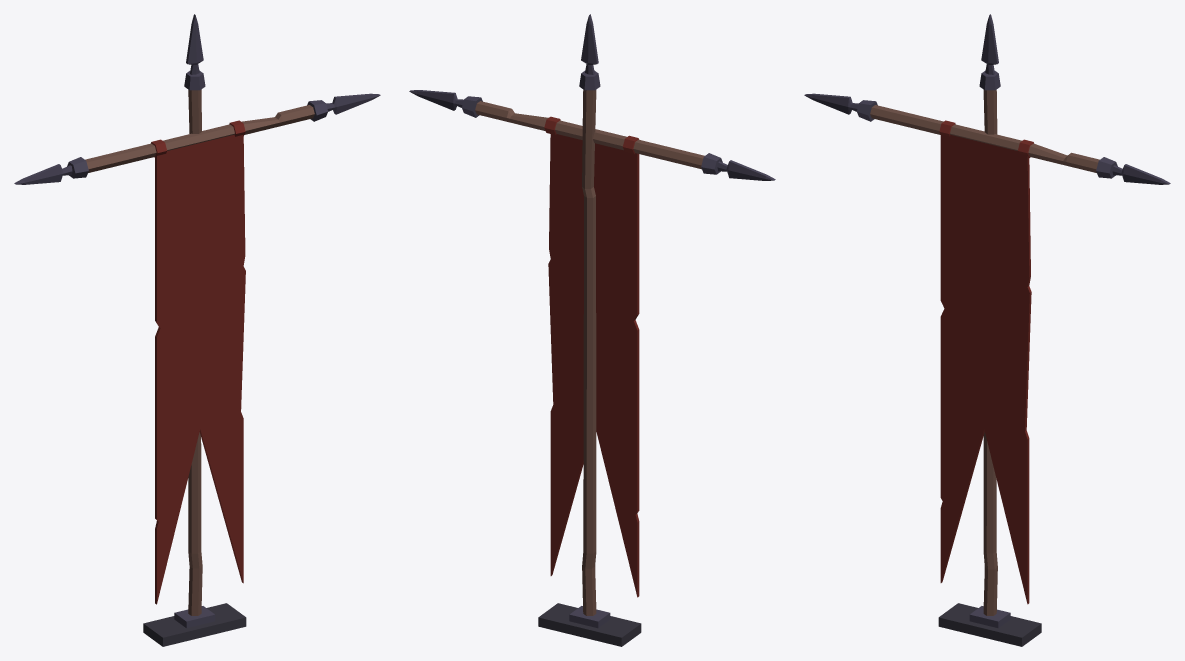
The model's file is D_Banner.glb.
3 renders of one model, left to right at view 1: azimuth 30°, elevation 25°; view 2: azimuth 150°, elevation 25°; view 3: azimuth 330°, elevation 25°, orthographic.
Parts seen in each view (by area): view 1: Banner; view 2: Banner; view 3: Banner.
Boxes of the visible parts, box(x1,y1,x2,y2) form: Banner: box(14, 14, 380, 646); Banner: box(409, 14, 775, 646); Banner: box(804, 14, 1170, 646).
Size of the model in its own units: 2.36 by 3.8 by 0.2193.
